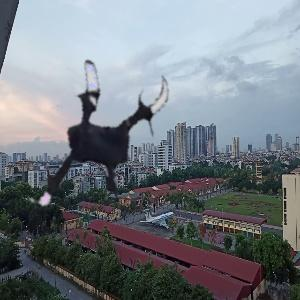drone: (1, 37, 187, 223)
